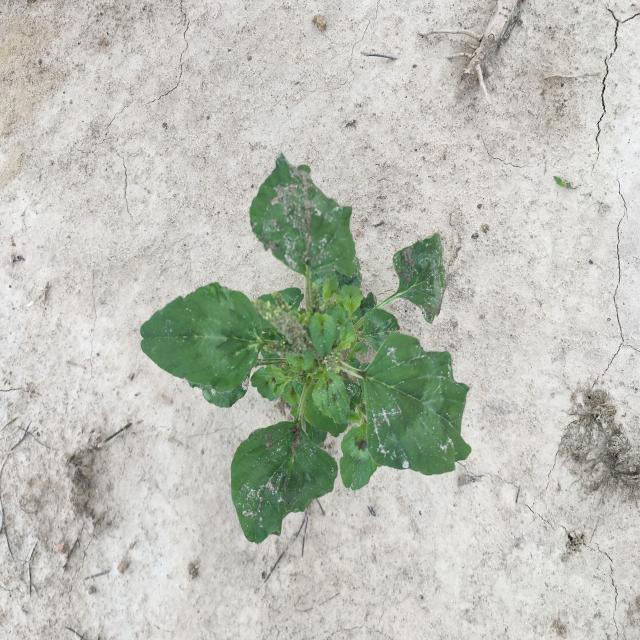PalmerAmaranth: (140, 153, 472, 544)
